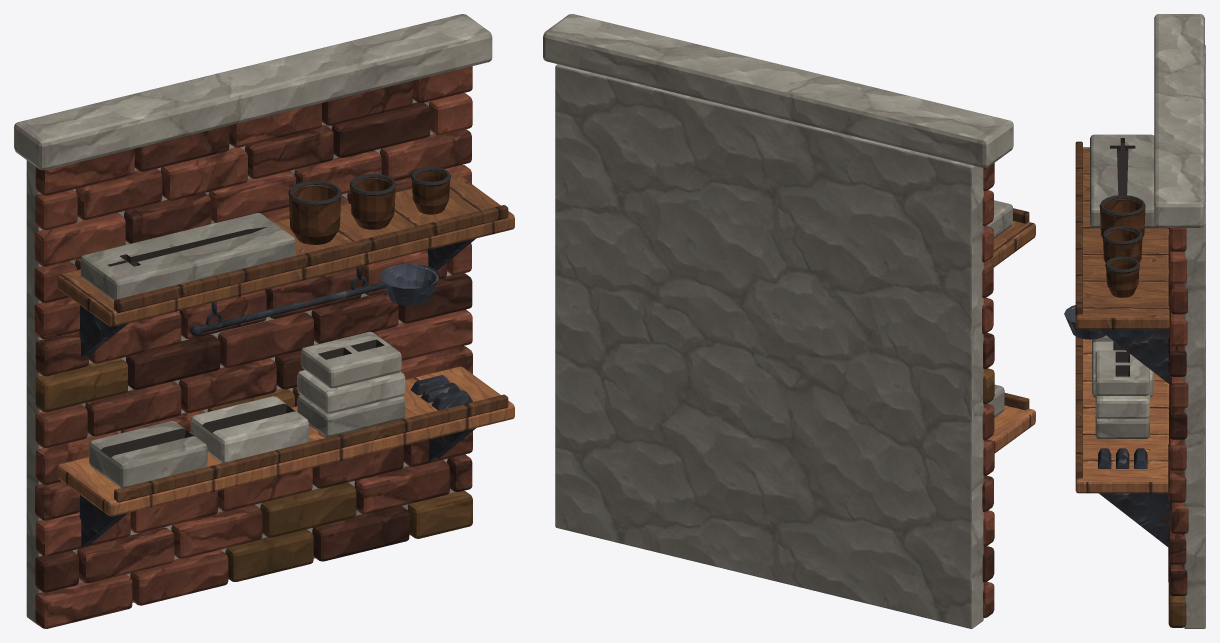
Rendered from ef_mould_shelf.glb.
3 renders of one model, left to right at view 1: azimuth 30°, elevation 25°; view 2: azimuth 150°, elevation 25°; view 3: azimuth 270°, elevation 25°, orthographic. The views are drawn at different scales.
Visible parts, largest first — view 1: model; view 2: model; view 3: model.
Part boxes in pixels (x1,y1,x2,y2): model: (14,14,514,628); model: (543,14,1035,628); model: (1064,14,1205,628).
Size of the model in its own units: 1.25 by 1.32 by 0.392.
18 materials, 16 textured.
